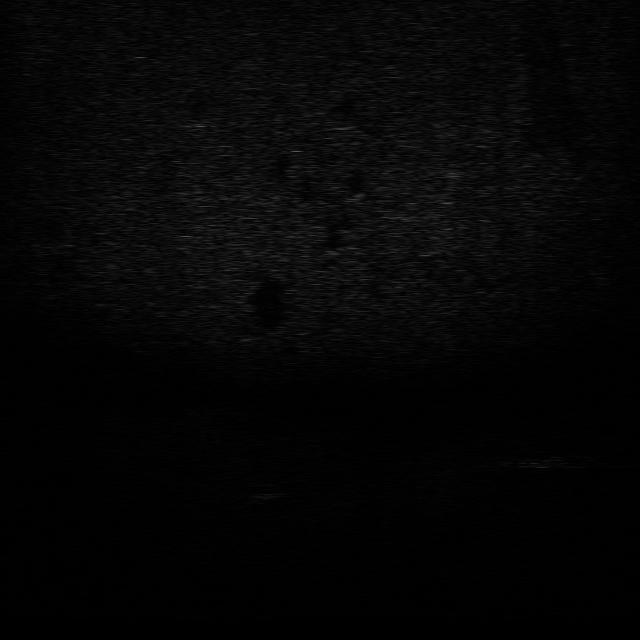ball: (244, 480, 284, 501)
human body: (498, 446, 602, 472)
